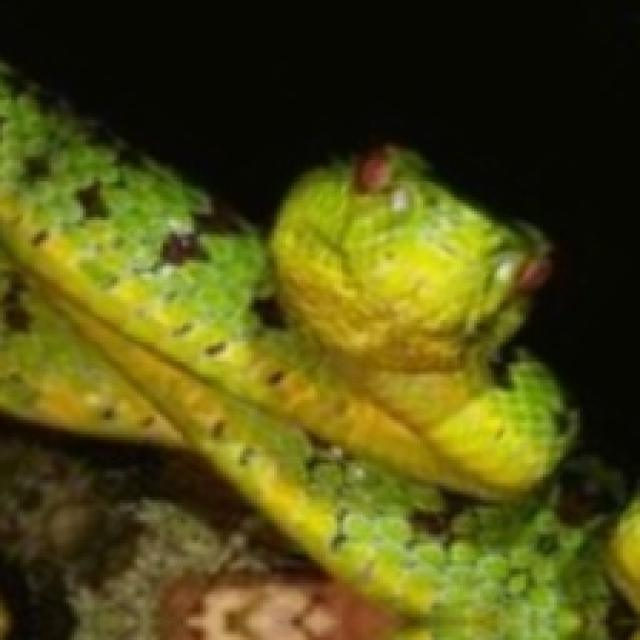philippine pitviper: (0, 66, 640, 640)
